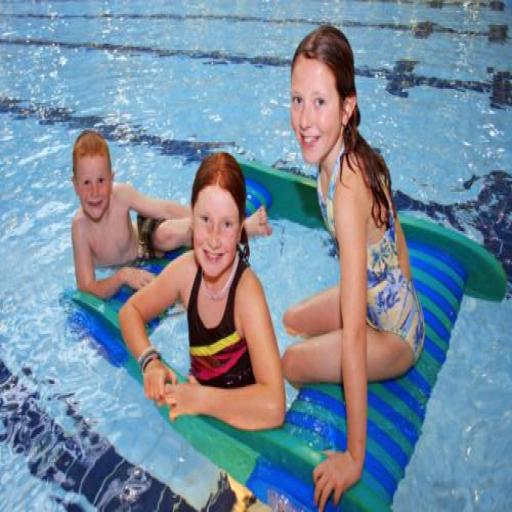swimming: (279, 22, 426, 510), (116, 150, 286, 434), (68, 128, 272, 304)
